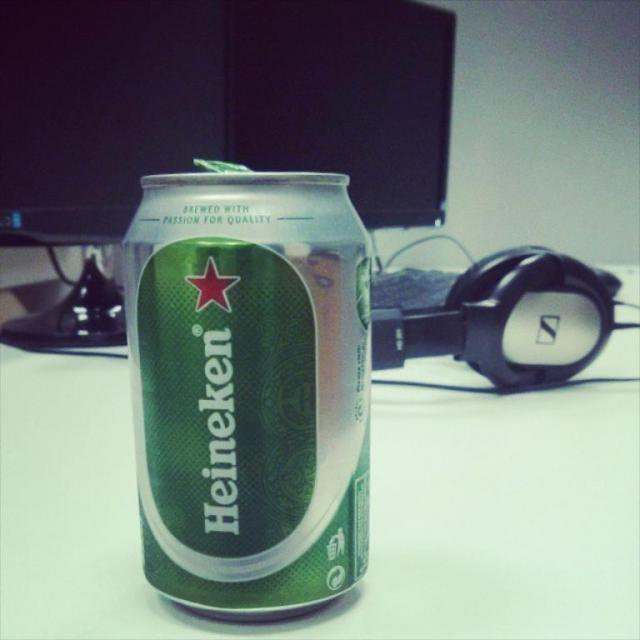metal-can: (118, 154, 376, 627)
